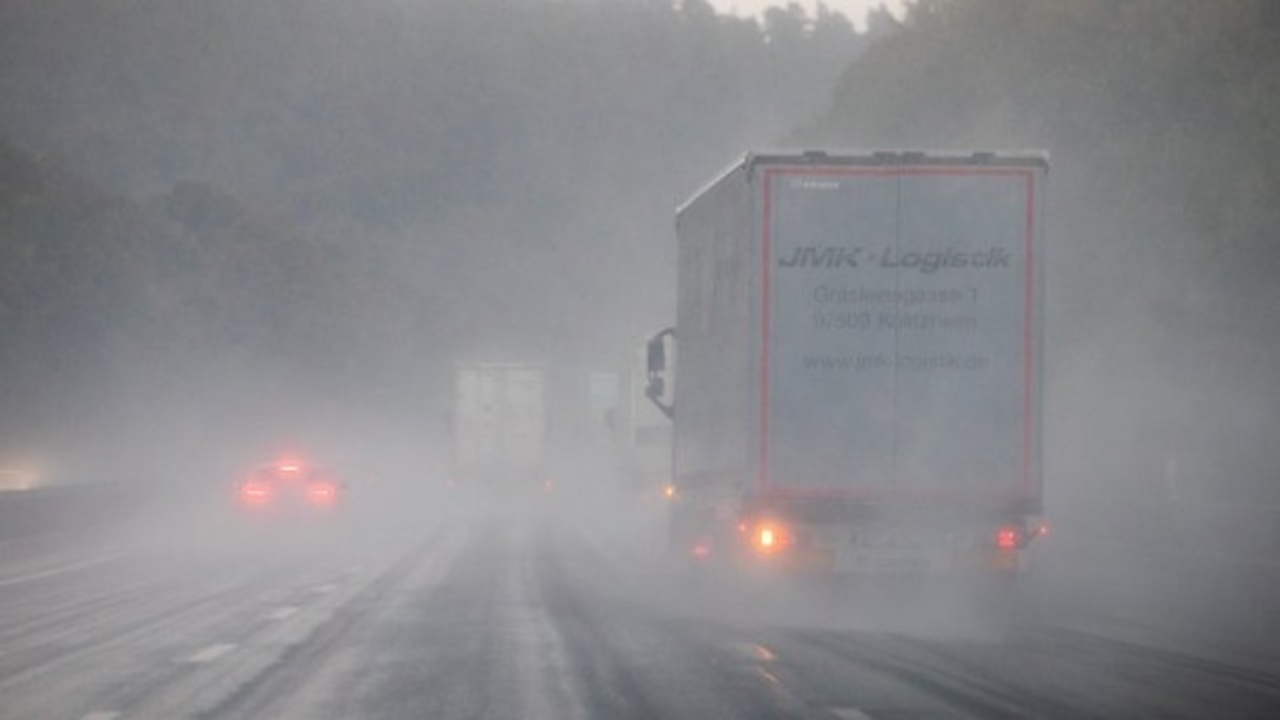car: (242, 462, 351, 525)
truck: (629, 150, 1049, 603), (441, 361, 562, 529), (597, 333, 680, 545)
